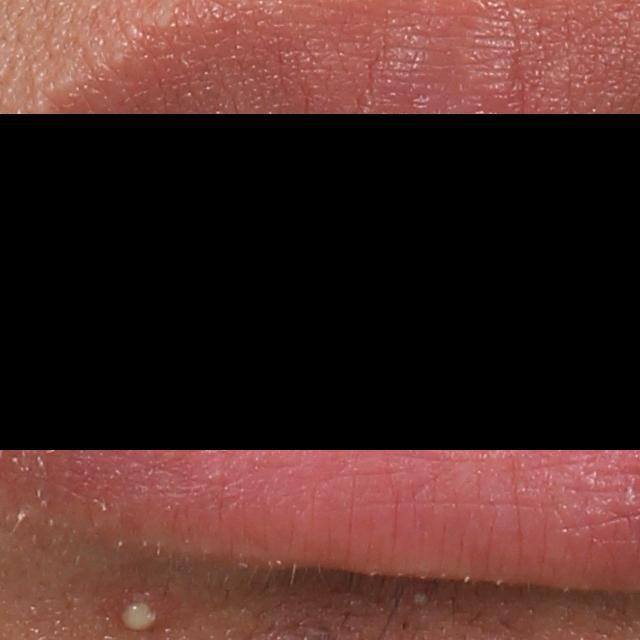pustule: (115, 593, 167, 633), (410, 590, 431, 611)
